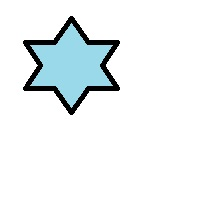star: (23, 16, 120, 115)
